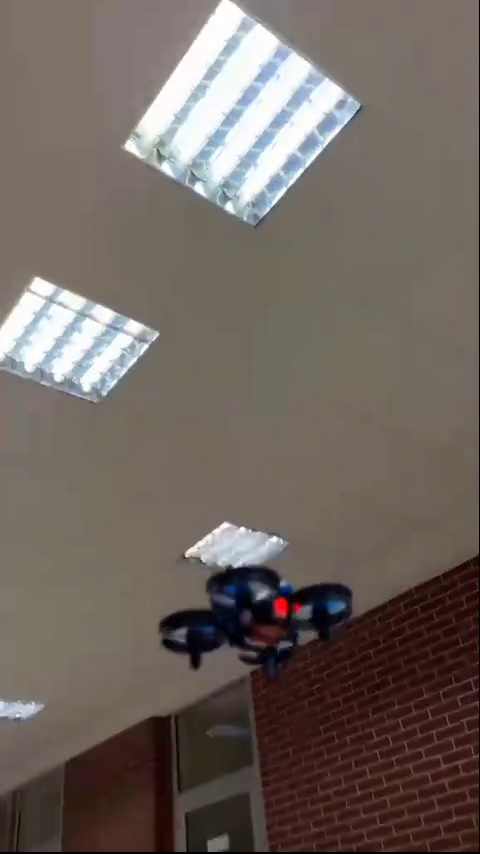drone: (161, 569, 352, 671)
